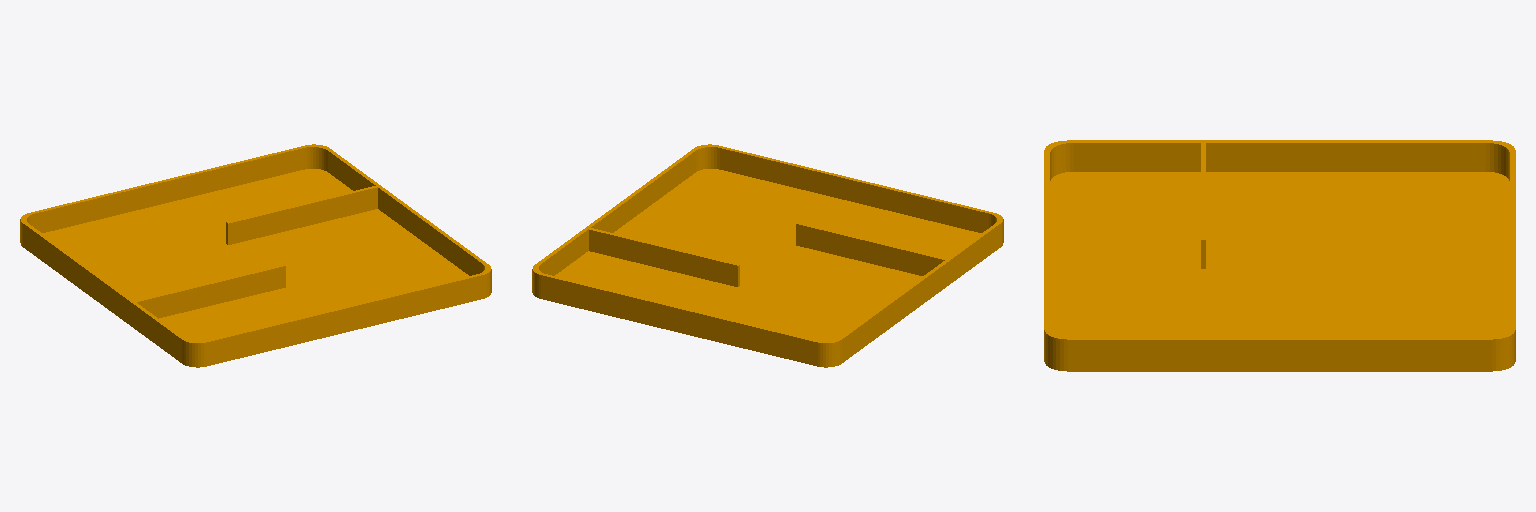
robot.urdf — arena:
<?xml version="1.0" encoding="utf-8"?>
<!-- =================================================================================== -->
<!-- |    This document was autogenerated by xacro from arena.urdf.xacro               | -->
<!-- |    EDITING THIS FILE BY HAND IS NOT RECOMMENDED                                 | -->
<!-- =================================================================================== -->
<robot name="arena">
  <link name="arena_link">
    <collision>
      <origin rpy="0 0 -4.71238898038" xyz="0 0 0"/>
      <!-- <origin xyz="0 0 0" rpy="0 0 0" /> -->
      <geometry>
        <mesh filename="package://hero_gazebo/worlds/models/arena_4/arena.dae" scale="1 1 1"/>
      </geometry>
    </collision>
    <visual>
      <origin rpy="0 0 -4.71238898038" xyz="0 0 0"/>
      <!-- <origin xyz="0 0 0" rpy="0 0 0" /> -->
      <geometry>
        <mesh filename="package://hero_gazebo/worlds/models/arena_4/arena.dae" scale="1 1 1"/>
      </geometry>
    </visual>
    <inertial>
      <origin rpy="0 0 0" xyz="0 0 0"/>
      <mass value="100"/>
      <inertia ixx="134.083333333" ixy="0" ixz="0" iyy="134.083333333" iyz="0" izz="134.083333333"/>
    </inertial>
  </link>
  <gazebo reference="arena_link">
    <static>true</static>
    <gravity>false</gravity>
    <selfCollide>false</selfCollide>
  </gazebo>
</robot>

--- Render facts (derived) ---
The picture shows the robot from 3 angles, left to right: view 1: azimuth 30°, elevation 25°; view 2: azimuth 150°, elevation 25°; view 3: azimuth 270°, elevation 25°; orthographic projection.
Robot: arena — 1 links, 0 joints (none); root link arena_link; default pose: every joint at zero.
Links seen in each view (by area): view 1: arena_link; view 2: arena_link; view 3: arena_link.
Link boxes in pixels (x1,y1,x2,y2): arena_link: (20,144,491,367); arena_link: (532,144,1003,367); arena_link: (1044,140,1515,371).
Size in the robot's own frame: 4 by 4 by 0.3 metres.
1 mesh visuals loaded from 1 distinct referenced files (1 Collada DAE).
